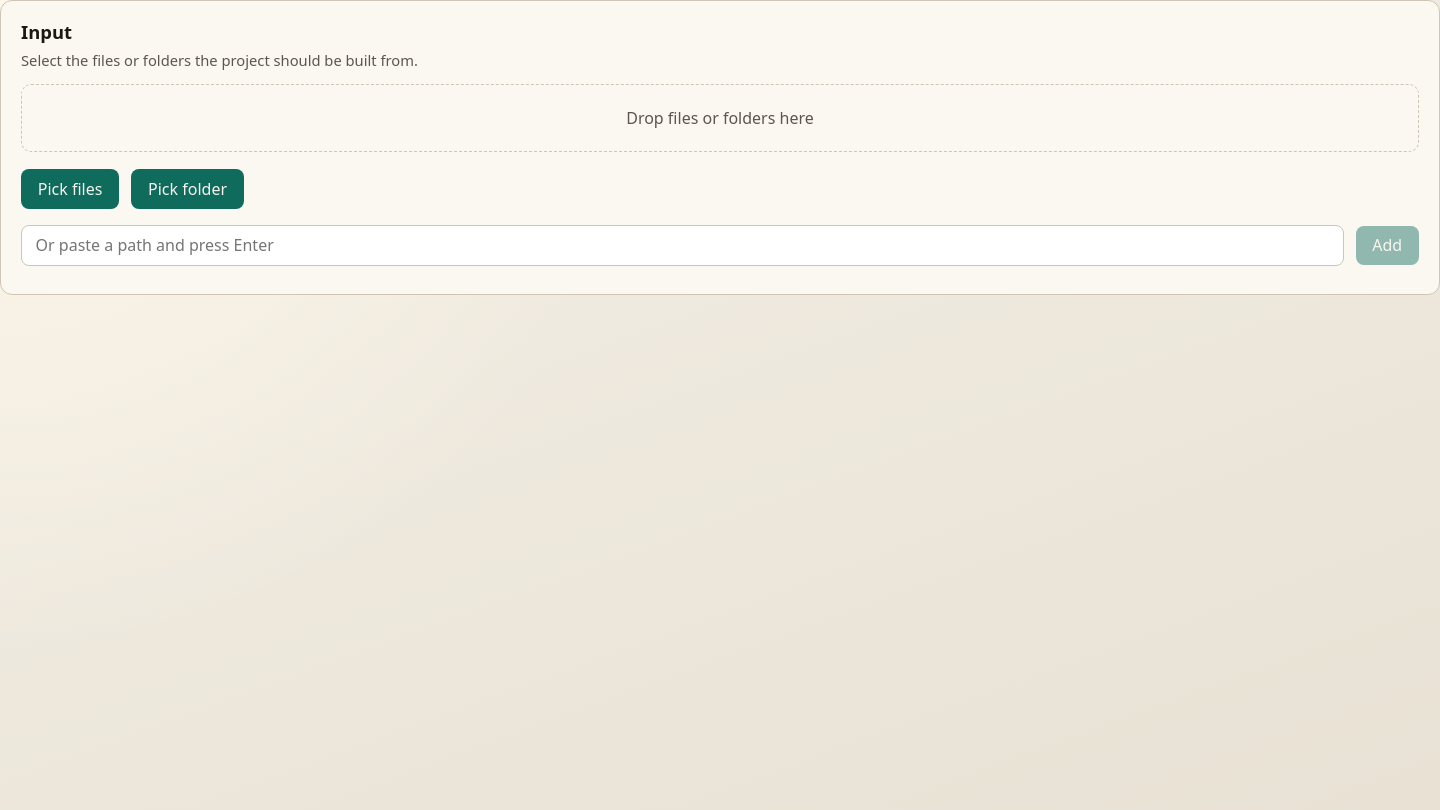
Scenario: IntakePanel › removes one path and re-runs preflight on the remainder
The width and height of the screenshot is (1440, 810).
Type "C:\\fixture\\notes-a.md" into the field with test id "intake-path-input" at (682, 245), box [21,224,1344,266]
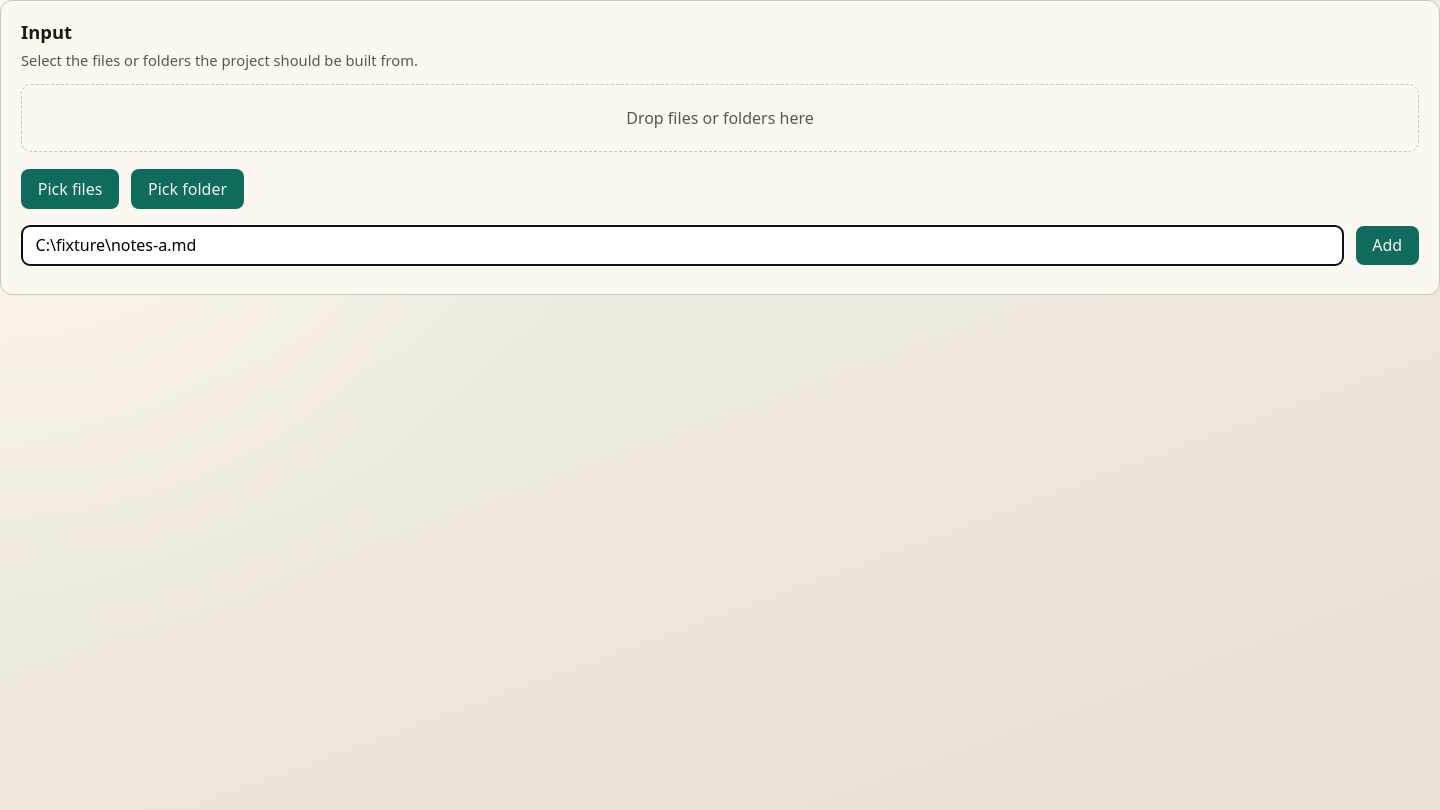
Click the button "Add" at (1387, 245), box [1356,226,1419,265]
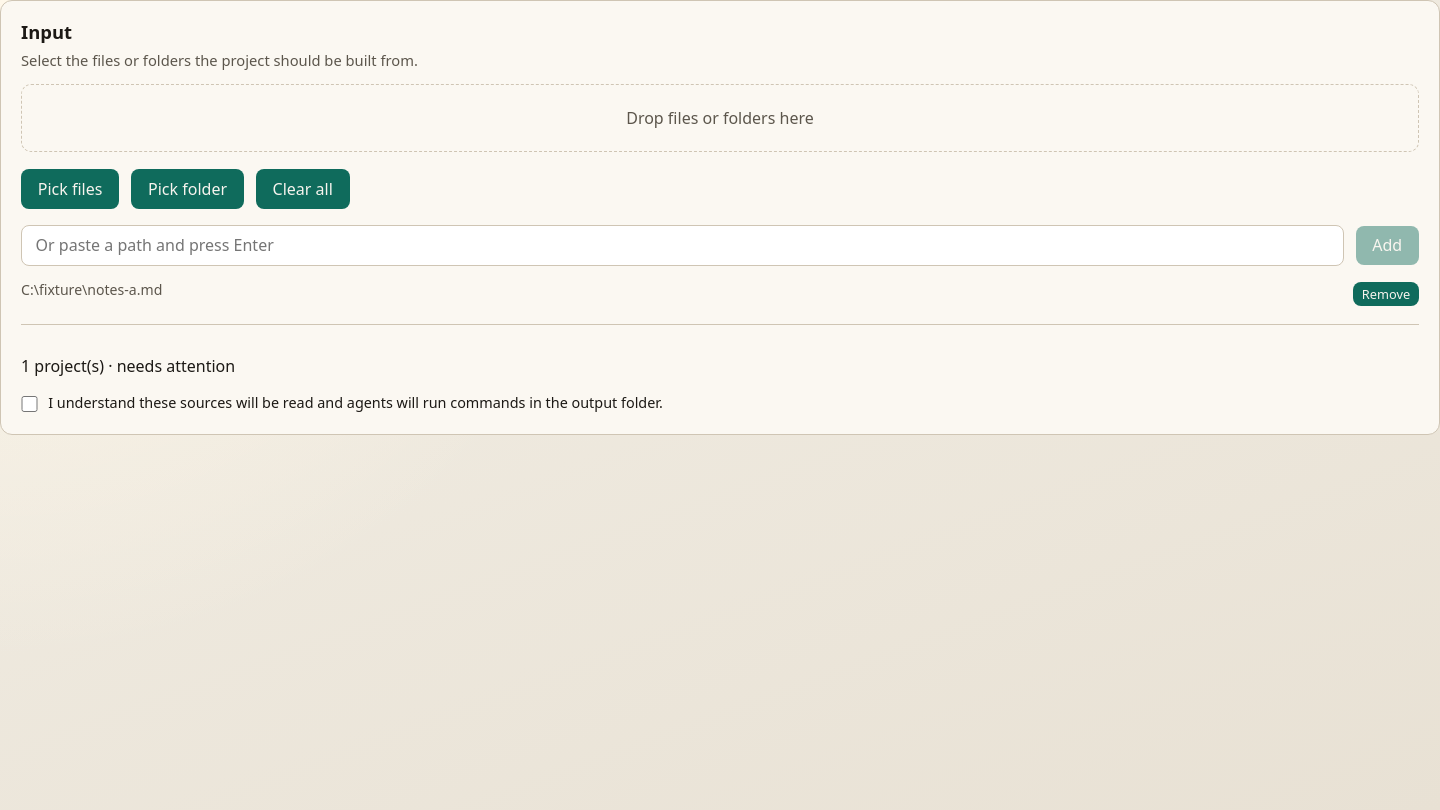
Expected: the element with test id "preflight-summary" is shown, [21,324,1419,412]
Type "C:\\fixture\\notes-b.md" into the field with test id "intake-path-input" at (682, 245), box [21,224,1344,266]
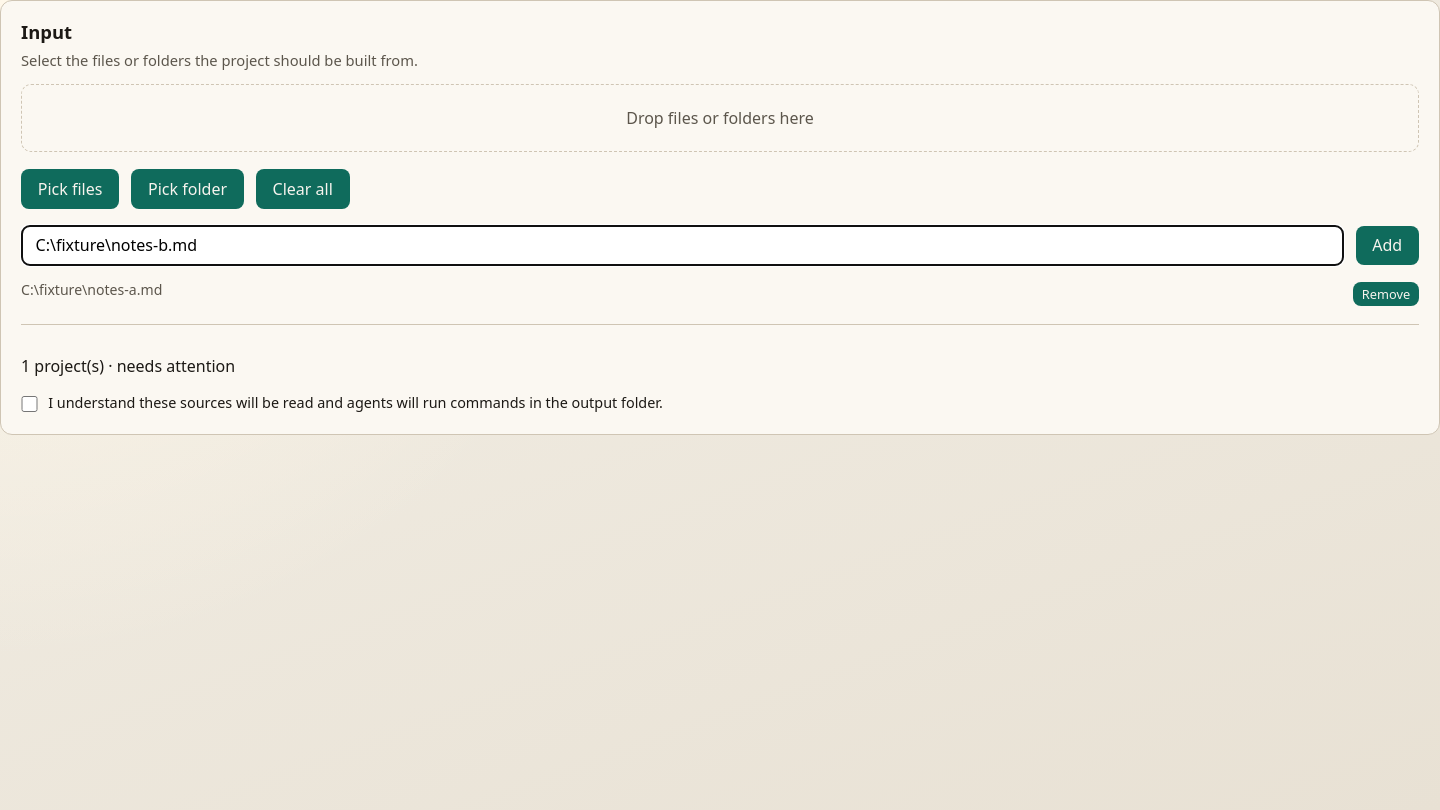
Click the button "Add" at (1387, 245), box [1356,226,1419,265]
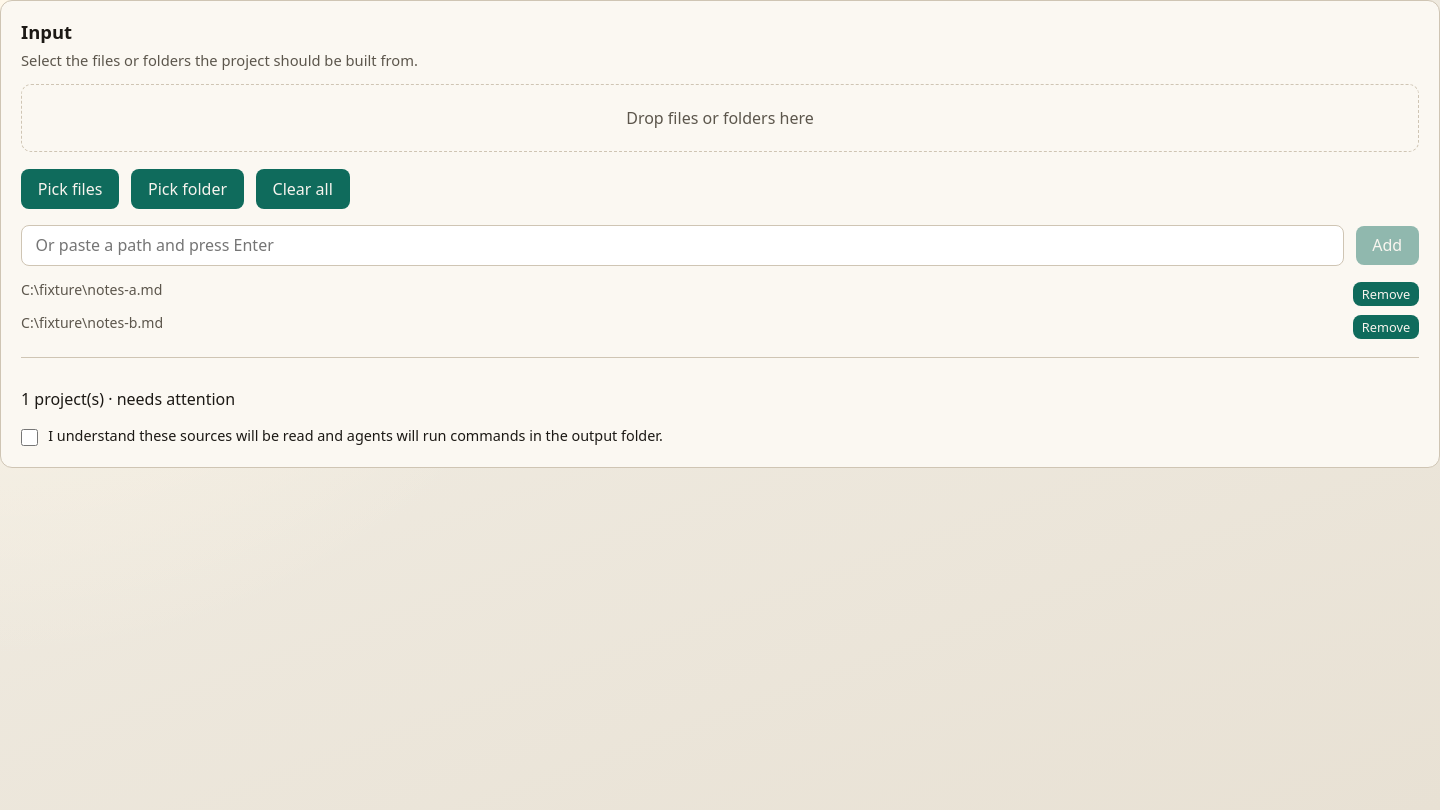
Expected: the number of list items is 2, [21,280,1419,308]; [21,314,1419,341]
Click the button with test id "intake-remove-0" at (1386, 294), box [1353,282,1419,306]
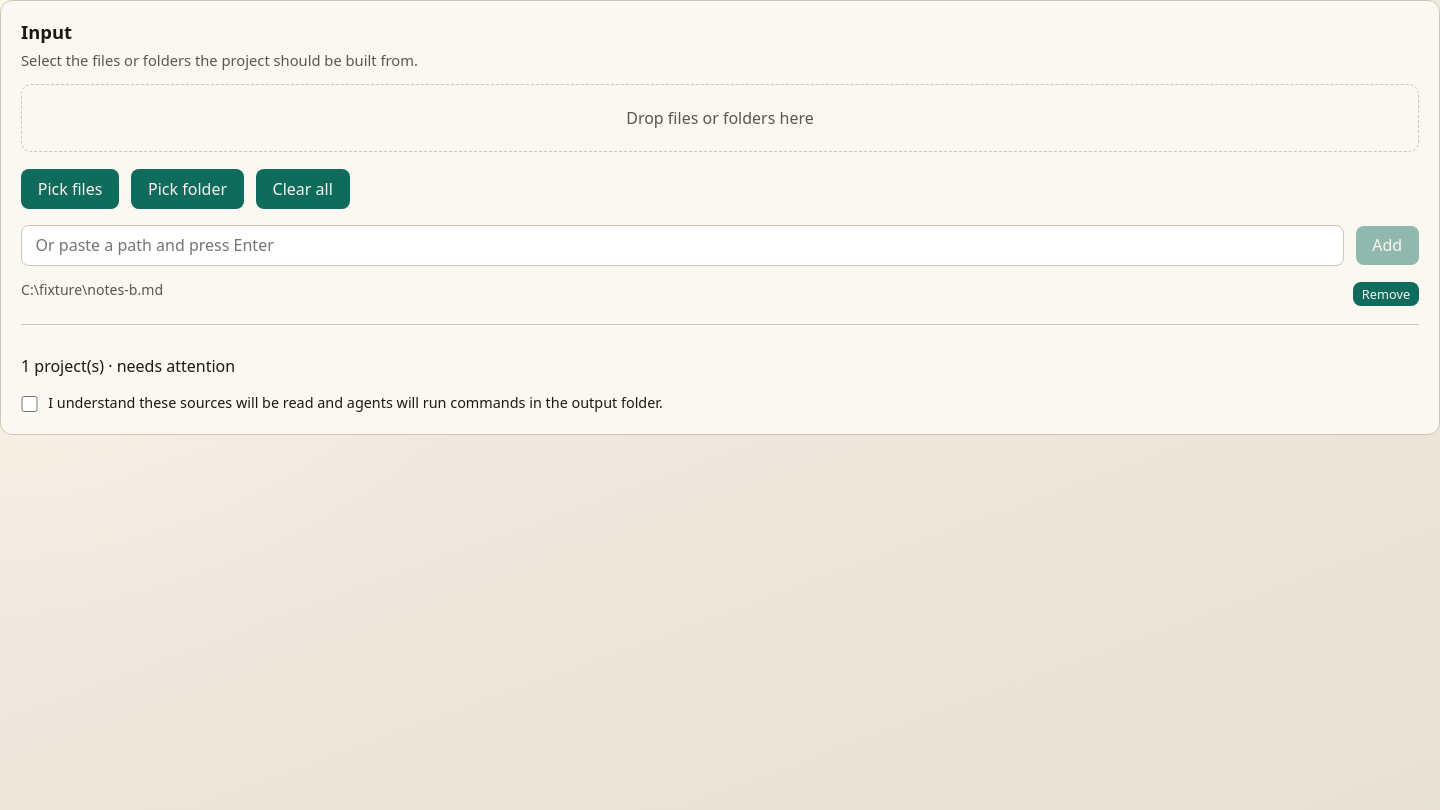
Expected: the list with test id "intake-paths" shows "C:\\fixture\\notes-b.md", [21,280,163,299]
Expected: the number of list items is 1, [21,280,1419,308]
Expected: the list with test id "intake-paths" no longer shows "C:\\fixture\\notes-a.md", [21,280,1419,308]
